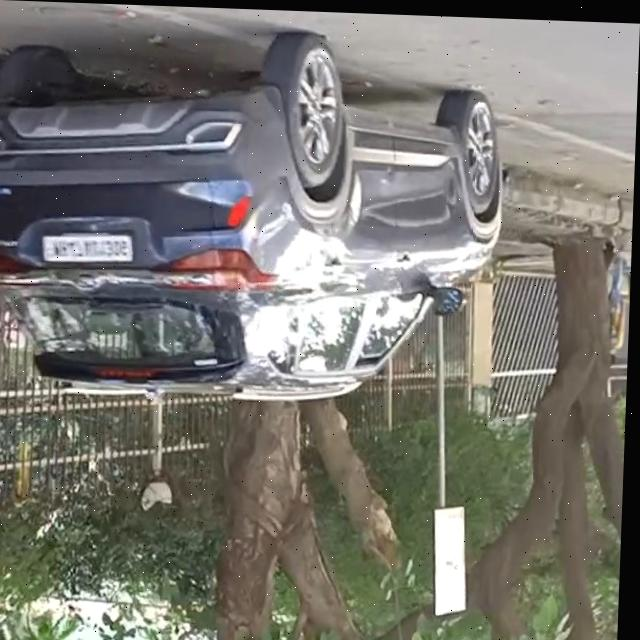plate: (43, 227, 140, 265)
